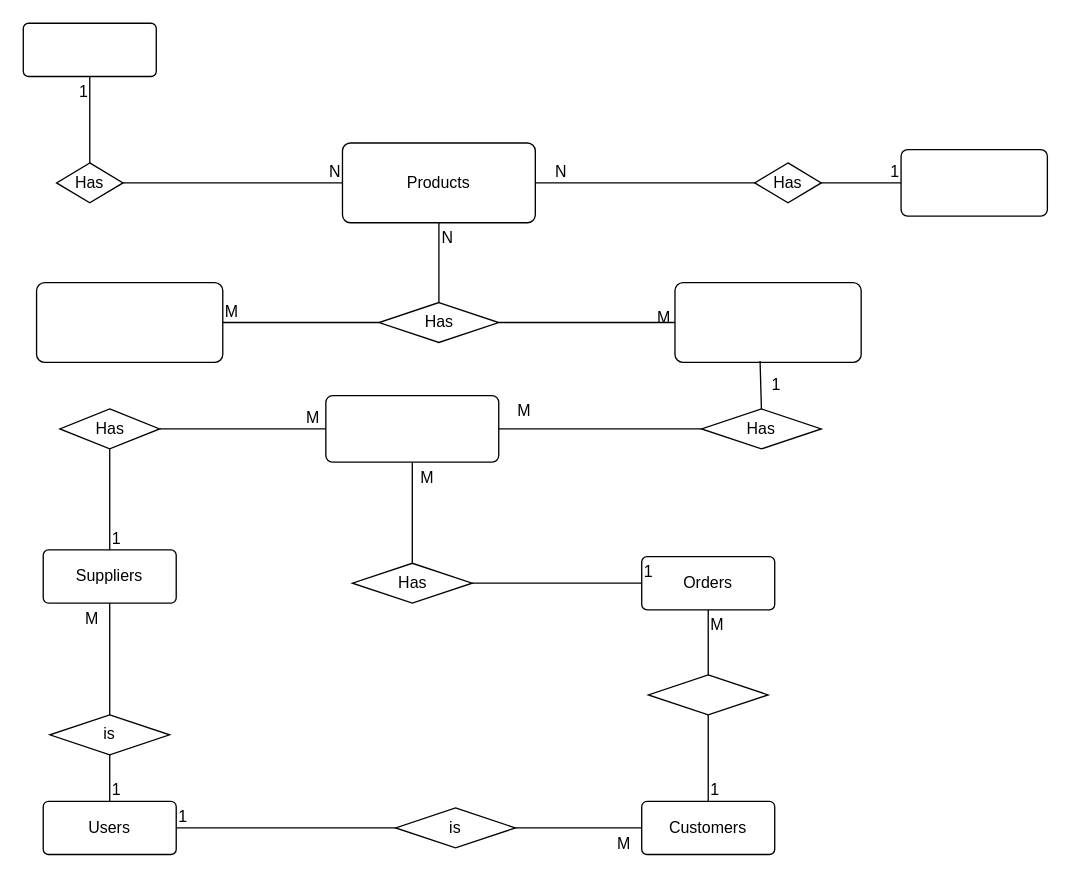
This 1071x878 diagram has some shape labels left out. Here are the shapes that lost their labels. From the top down, the centre of each, then its label:
(x=89, y=49): Brands
(x=973, y=182): Categories
(x=129, y=321): Inventories
(x=767, y=321): Product Inventories
(x=412, y=428): Product Items
(x=707, y=694): Can do
